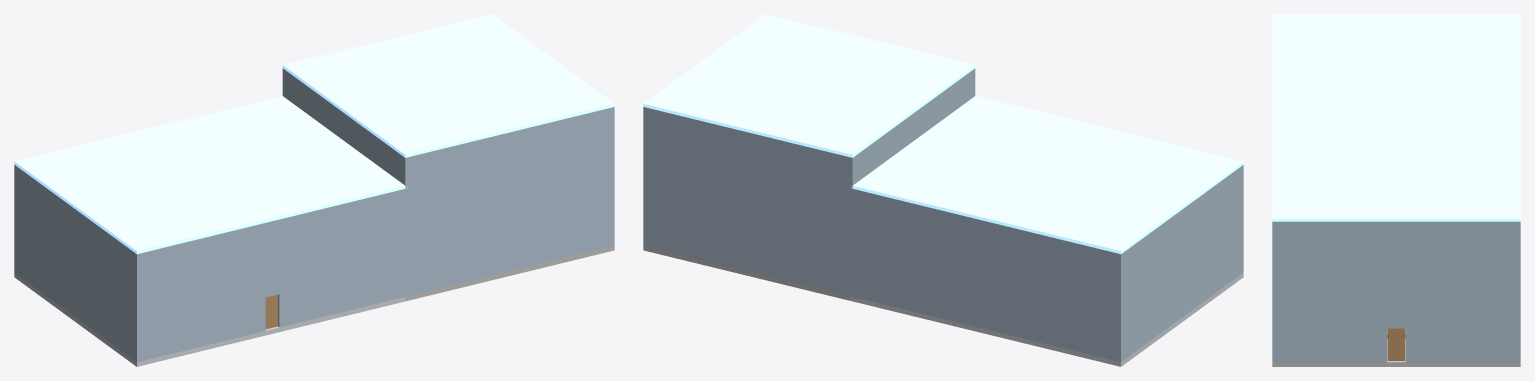
3 renders of one model, left to right at view 1: azimuth 30°, elevation 25°; view 2: azimuth 150°, elevation 25°; view 3: azimuth 270°, elevation 25°, orthographic.
Visible parts, largest first — view 1: Play_Ceiling, Carousel_Wall_S_1, Carousel_Ceiling, Play_Wall_S_1, Play_Wall_S_3, Play_Wall_W_1, Carousel_Wall_W_Top, Play_Floor, Play_Wall_S_2, Carousel_Floor; view 2: Play_Ceiling, Play_Wall_N_1, Carousel_Wall_N_1, Carousel_Ceiling, Play_Wall_W_1, Carousel_Wall_W_Top, Play_Floor, Carousel_Floor; view 3: Carousel_Ceiling, Play_Ceiling, Carousel_Wall_E_1, Carousel_Wall_E_3, Carousel_Wall_E_2, Carousel_Floor, DoorLeaf_sky_hall_04, Carousel_Wall_N_1, Carousel_Wall_S_1.
Boxes of the visible parts, left/top/right/bottom form: Play_Ceiling: left=14, top=96, right=407, bottom=254; Carousel_Wall_S_1: left=403, top=107, right=614, bottom=296; Carousel_Ceiling: left=282, top=14, right=614, bottom=157; Play_Wall_S_1: left=135, top=223, right=265, bottom=362; Play_Wall_S_3: left=278, top=189, right=405, bottom=327; Play_Wall_W_1: left=16, top=166, right=135, bottom=360; Carousel_Wall_W_Top: left=284, top=69, right=403, bottom=183; Play_Floor: left=14, top=273, right=407, bottom=366; Play_Wall_S_2: left=265, top=219, right=279, bottom=297; Carousel_Floor: left=405, top=246, right=614, bottom=301; Play_Ceiling: left=850, top=96, right=1243, bottom=254; Play_Wall_N_1: left=849, top=188, right=1122, bottom=362; Carousel_Wall_N_1: left=643, top=107, right=854, bottom=296; Carousel_Ceiling: left=643, top=14, right=975, bottom=157; Play_Wall_W_1: left=1122, top=166, right=1241, bottom=360; Carousel_Wall_W_Top: left=854, top=69, right=973, bottom=183; Play_Floor: left=849, top=273, right=1243, bottom=366; Carousel_Floor: left=643, top=246, right=849, bottom=300; Carousel_Ceiling: left=1272, top=115, right=1520, bottom=221; Play_Ceiling: left=1272, top=14, right=1520, bottom=115; Carousel_Wall_E_1: left=1406, top=221, right=1516, bottom=362; Carousel_Wall_E_3: left=1276, top=221, right=1386, bottom=362; Carousel_Wall_E_2: left=1387, top=221, right=1405, bottom=328; Carousel_Floor: left=1272, top=339, right=1520, bottom=366; DoorLeaf_sky_hall_04: left=1387, top=328, right=1405, bottom=360; Carousel_Wall_N_1: left=1517, top=221, right=1520, bottom=362; Carousel_Wall_S_1: left=1272, top=221, right=1275, bottom=362.
Bounding box in the file's own units: 32.4 × 9.5 × 14.4.
